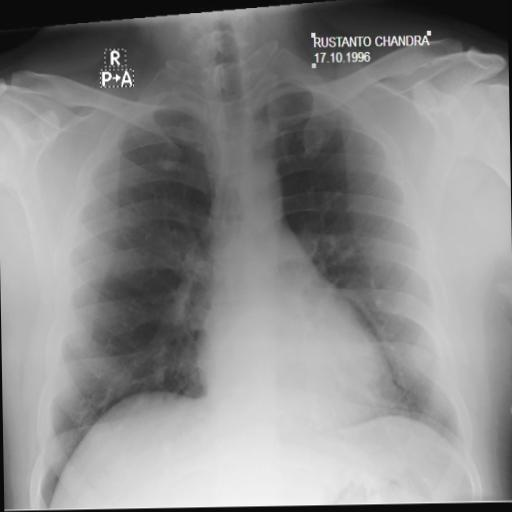normal: (20, 52, 484, 504)
